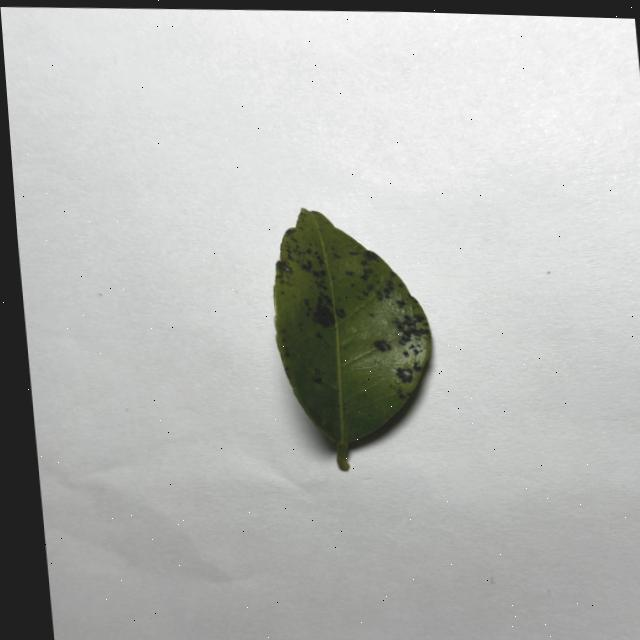sooty_mold: (272, 207, 429, 469)
